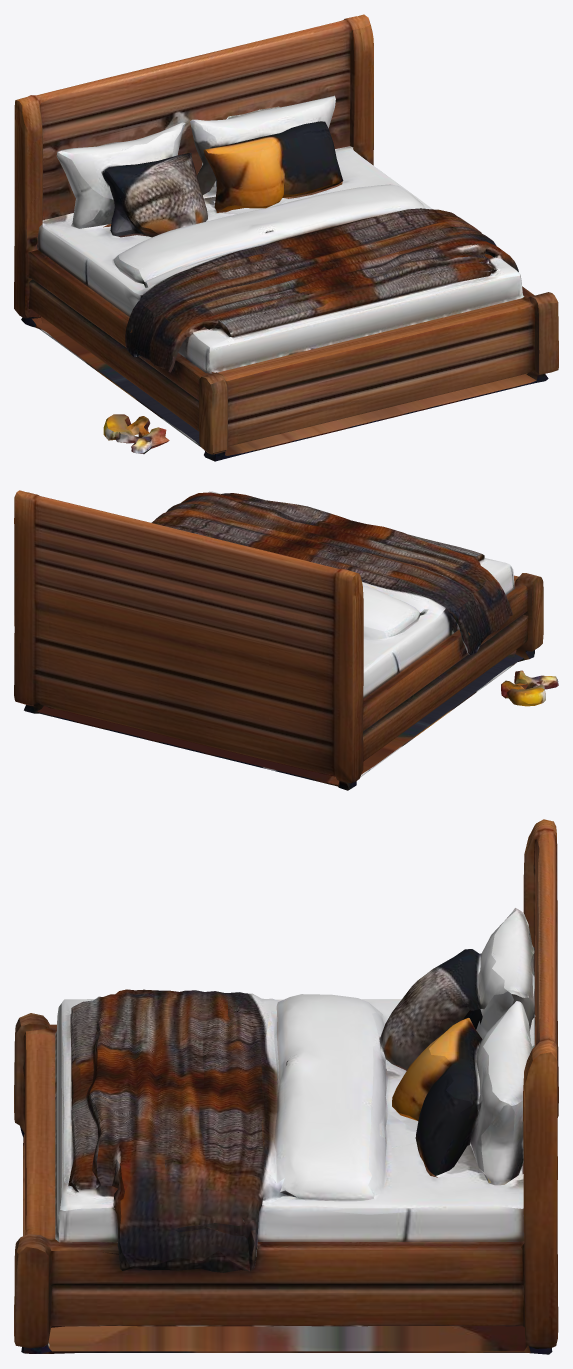
Rendered from double_bed.glb.
3 renders of one model, top to bottom at view 1: azimuth 30°, elevation 25°; view 2: azimuth 150°, elevation 25°; view 3: azimuth 270°, elevation 25°, orthographic. The views are drawn at different scales.
Visible parts, largest first — view 1: double_bed; view 2: double_bed; view 3: double_bed.
Part boxes in pixels (x1,y1,x2,y2): double_bed: (14, 14, 558, 461); double_bed: (14, 490, 558, 790); double_bed: (14, 819, 558, 1354).
Bounding box in the file's own units: 1 × 0.536 × 0.8537.
1 material, 1 textured.
